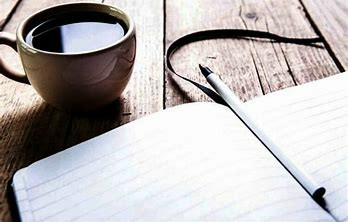pen: (199, 61, 326, 196)
